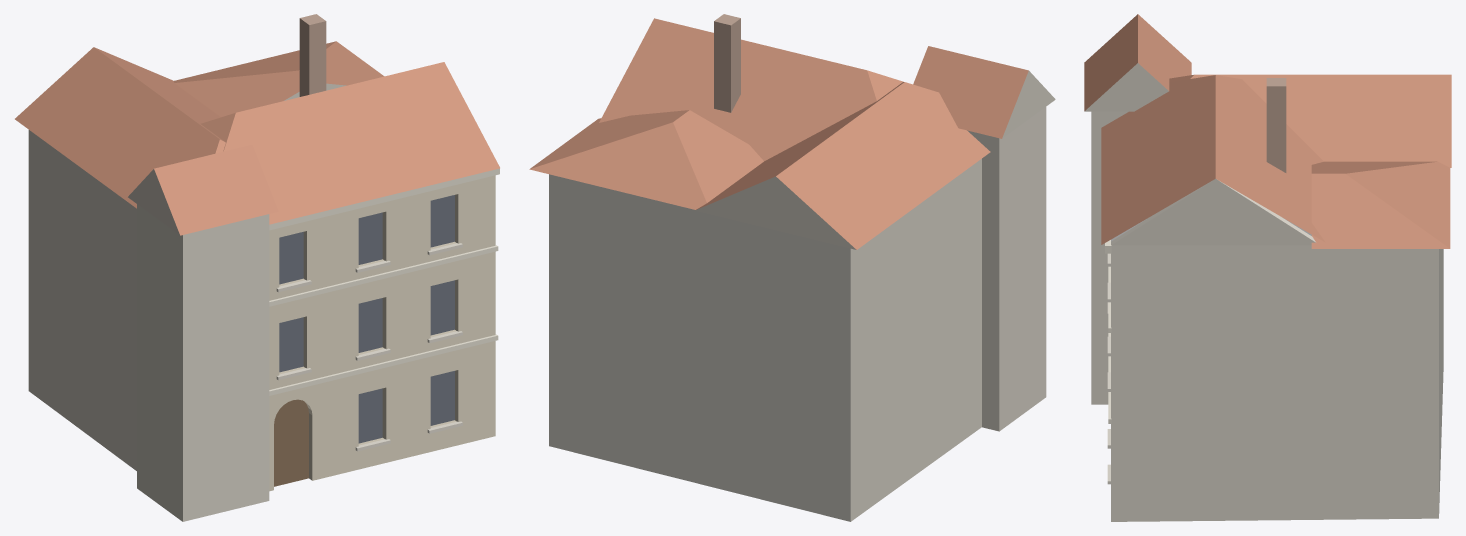
3 renders of one model, left to right at view 1: azimuth 30°, elevation 25°; view 2: azimuth 150°, elevation 25°; view 3: azimuth 270°, elevation 25°, orthographic. The views are drawn at different scales.
Visible parts, largest first — view 1: CP_260_Masonry, CP_260_Corner_Bay, CP_260_Roof, CP_260_WingRoof_West_Wing_Dobrovolcu, CP_260_WingRoof_Corner_Bay, CP_260_WingRoof_Rear_Attic, CP_260_Chimney_0, CP_260_Cornice_string2_0, CP_260_Cornice_string1_0, CP_260_Cornice_eave_0; view 2: CP_260_Masonry, CP_260_WingRoof_West_Wing_Dobrovolcu, CP_260_Roof, CP_260_Corner_Bay, CP_260_WingRoof_Rear_Attic, CP_260_WingRoof_Corner_Bay, CP_260_Chimney_0; view 3: CP_260_Masonry, CP_260_Roof, CP_260_WingRoof_West_Wing_Dobrovolcu, CP_260_WingRoof_Rear_Attic, CP_260_Gable_R_gable, CP_260_WingRoof_Corner_Bay, CP_260_Corner_Bay, CP_260_Chimney_0.
Boxes of the visible parts, box(x1,y1,x2,y2) form: CP_260_Masonry: box(28, 130, 495, 491); CP_260_Corner_Bay: box(137, 204, 269, 521); CP_260_Roof: box(200, 62, 499, 224); CP_260_WingRoof_West_Wing_Dobrovolcu: box(15, 47, 225, 208); CP_260_WingRoof_Corner_Bay: box(128, 145, 278, 235); CP_260_WingRoof_Rear_Attic: box(174, 41, 384, 117); CP_260_Chimney_0: box(299, 14, 326, 96); CP_260_Cornice_string2_0: box(269, 245, 498, 306); CP_260_Cornice_string1_0: box(269, 334, 498, 395); CP_260_Cornice_eave_0: box(269, 168, 499, 230); CP_260_Masonry: box(549, 159, 981, 521); CP_260_WingRoof_West_Wing_Dobrovolcu: box(695, 82, 990, 249); CP_260_Roof: box(599, 18, 903, 161); CP_260_Corner_Bay: box(967, 107, 1046, 431); CP_260_WingRoof_Rear_Attic: box(529, 110, 763, 209); CP_260_WingRoof_Corner_Bay: box(913, 46, 1055, 138); CP_260_Chimney_0: box(714, 14, 740, 112); CP_260_Masonry: box(1111, 218, 1443, 521); CP_260_Roof: box(1101, 75, 1325, 244); CP_260_WingRoof_West_Wing_Dobrovolcu: box(1169, 74, 1451, 167); CP_260_WingRoof_Rear_Attic: box(1311, 161, 1450, 248); CP_260_Gable_R_gable: box(1111, 178, 1315, 245); CP_260_WingRoof_Corner_Bay: box(1084, 14, 1191, 111); CP_260_Corner_Bay: box(1091, 111, 1128, 404); CP_260_Chimney_0: box(1266, 78, 1286, 172).
Size of the model in its own units: 13.98 by 15.2 by 13.
